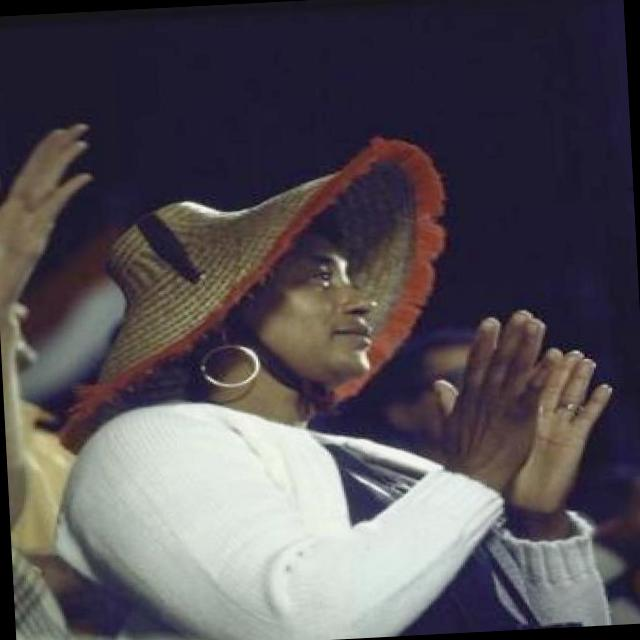no_vest: (46, 367, 597, 640)
